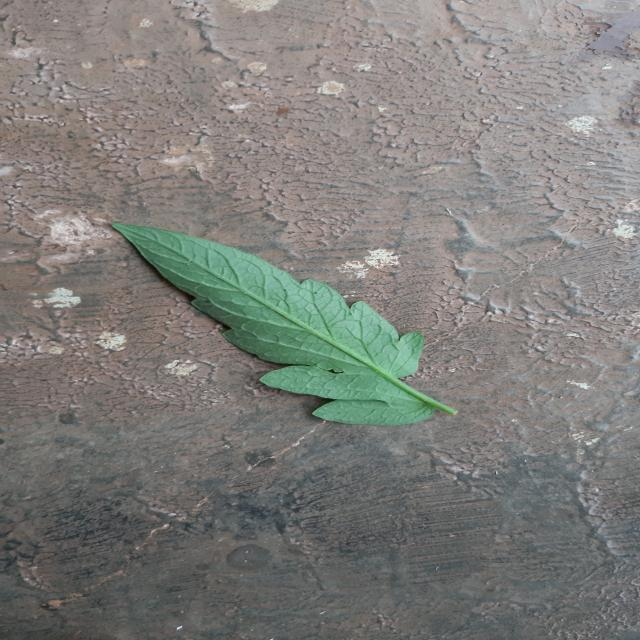tomato: (113, 224, 458, 425)
